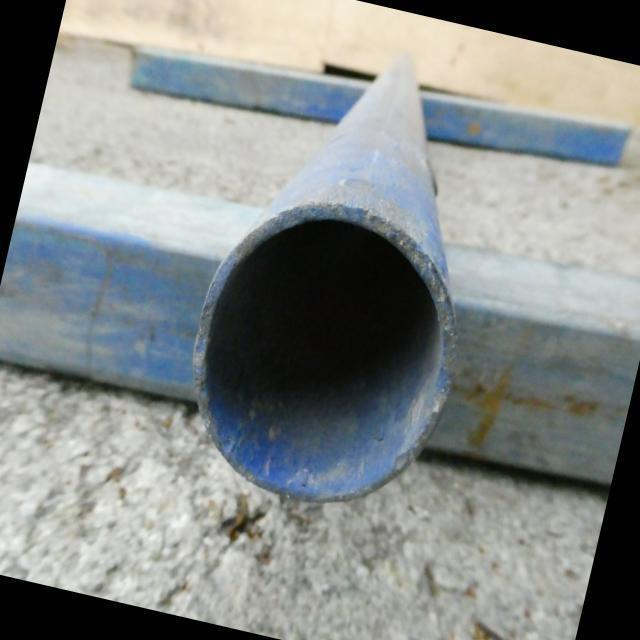pipe: (194, 205, 453, 504)
